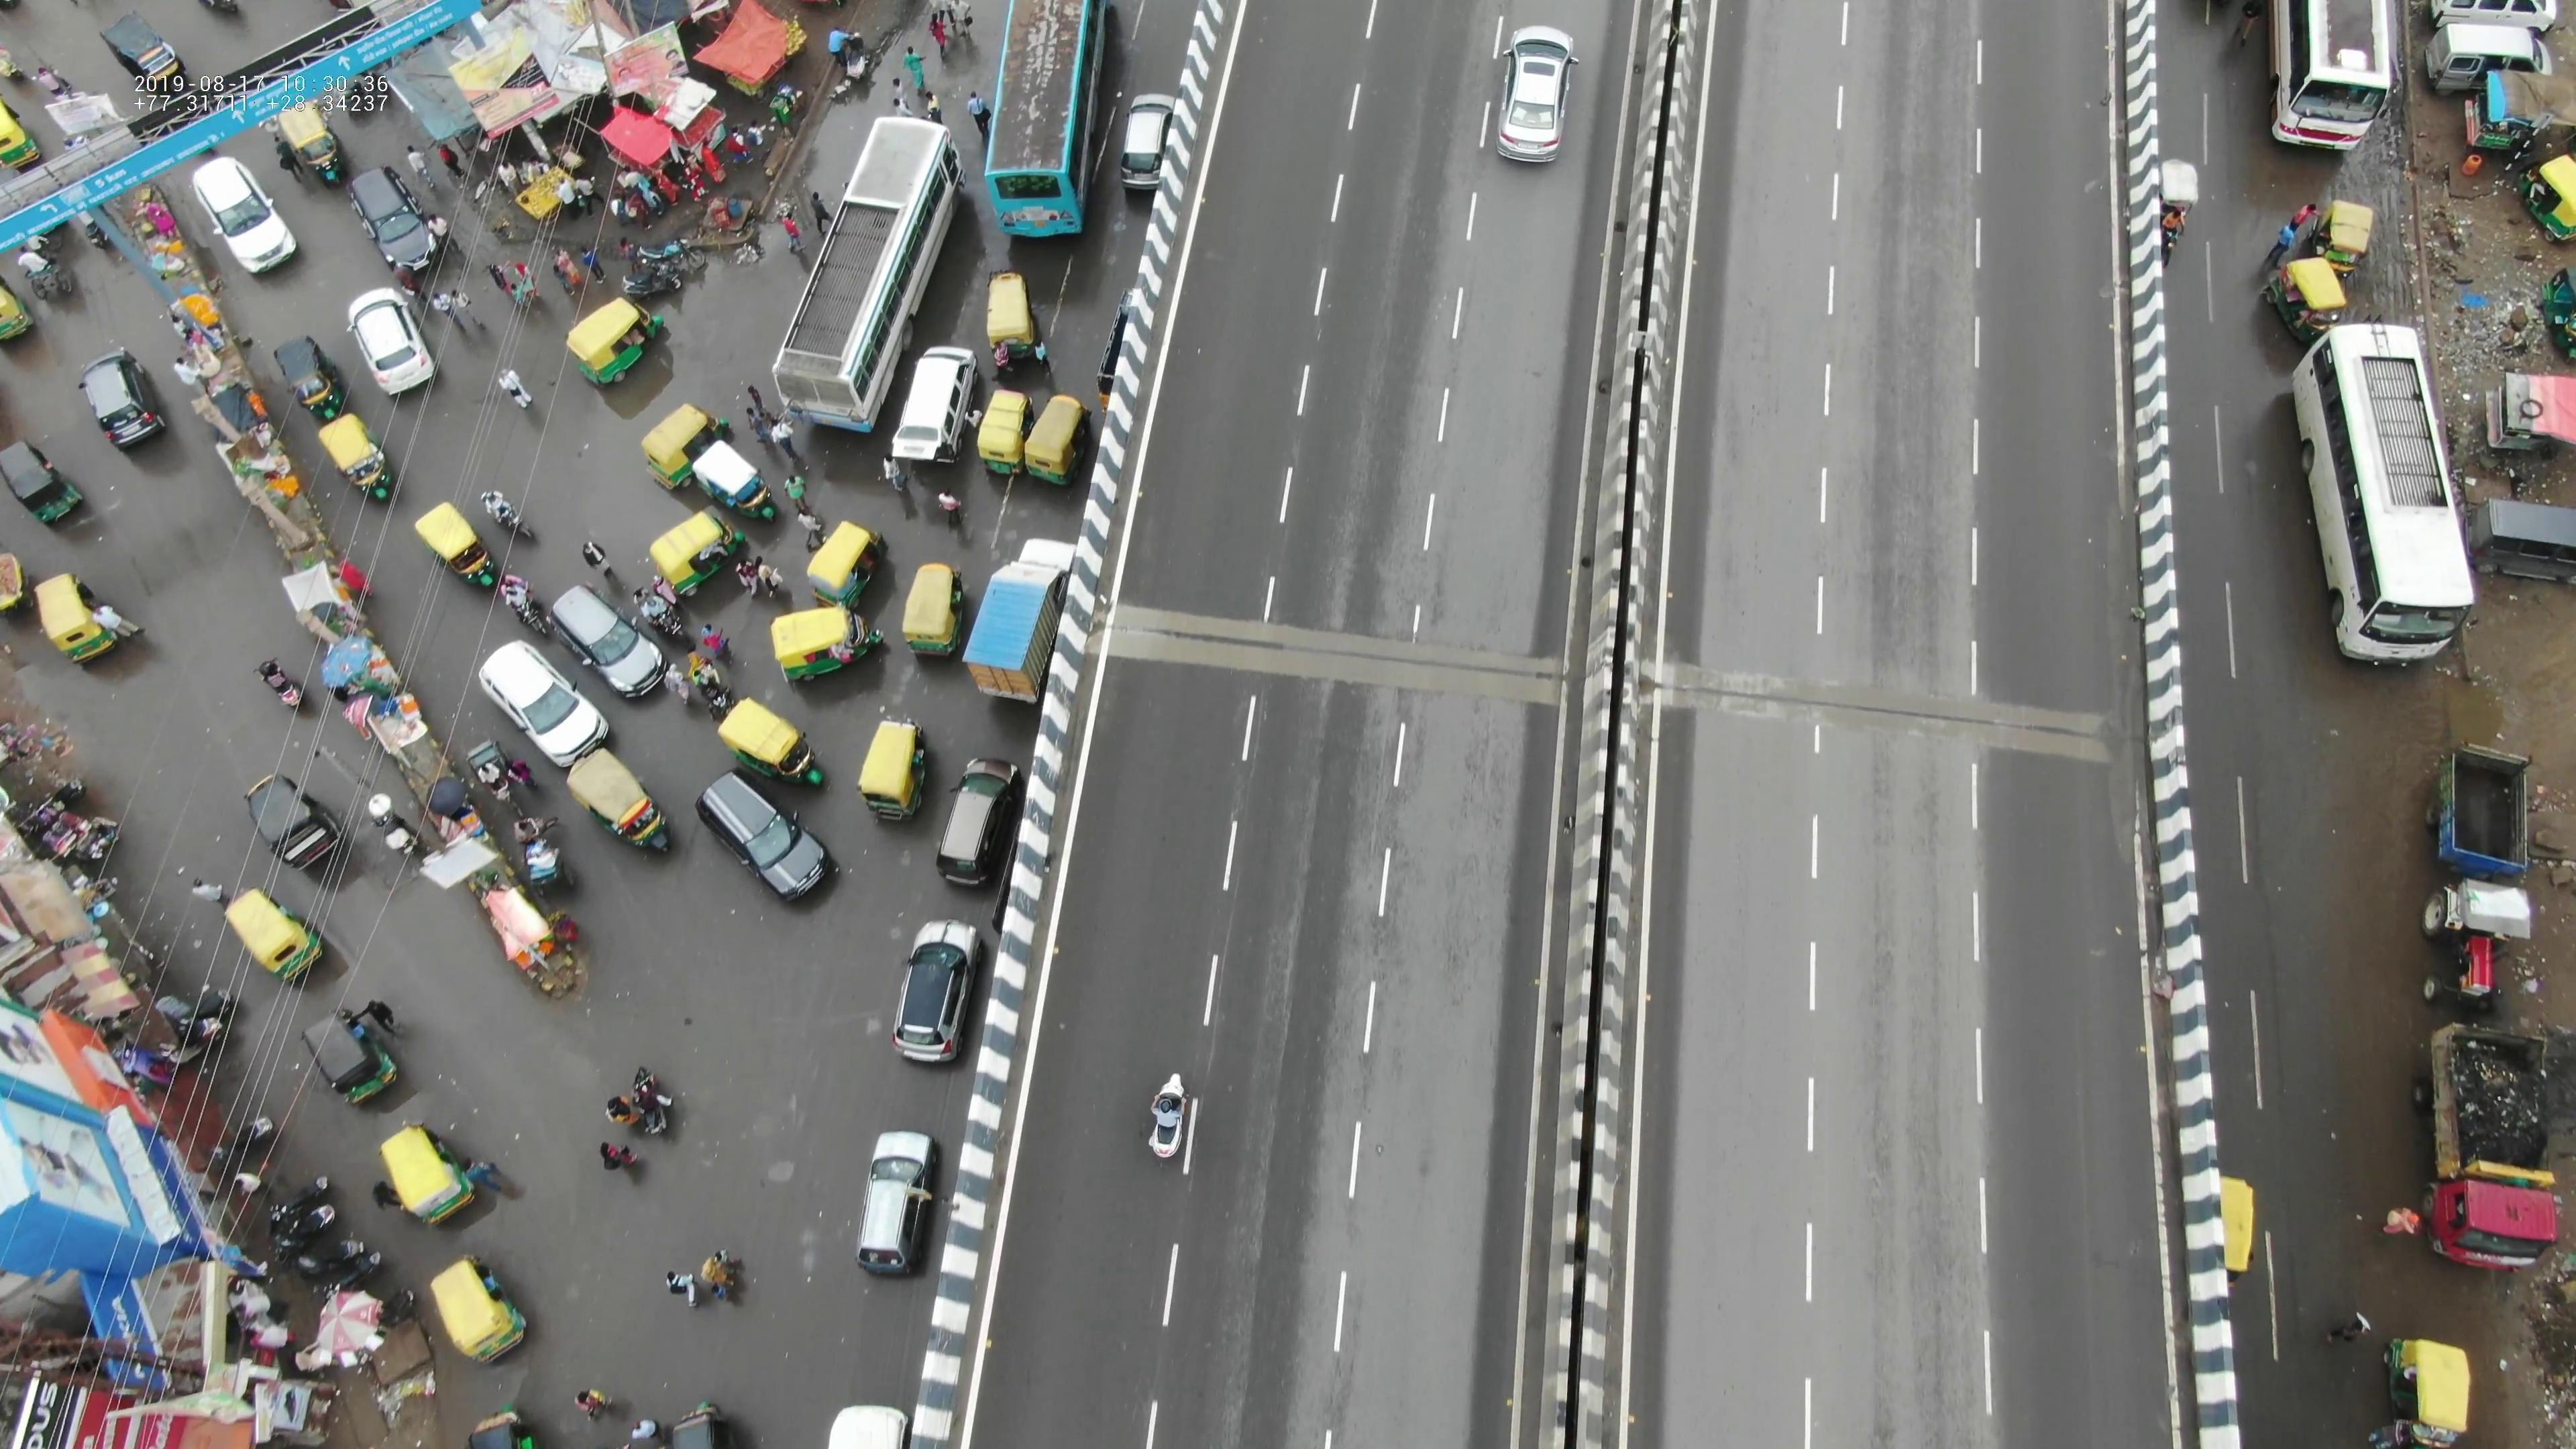Potholes: (729, 1115, 817, 1205), (761, 1212, 842, 1304), (867, 832, 924, 948), (824, 1010, 892, 1058)
